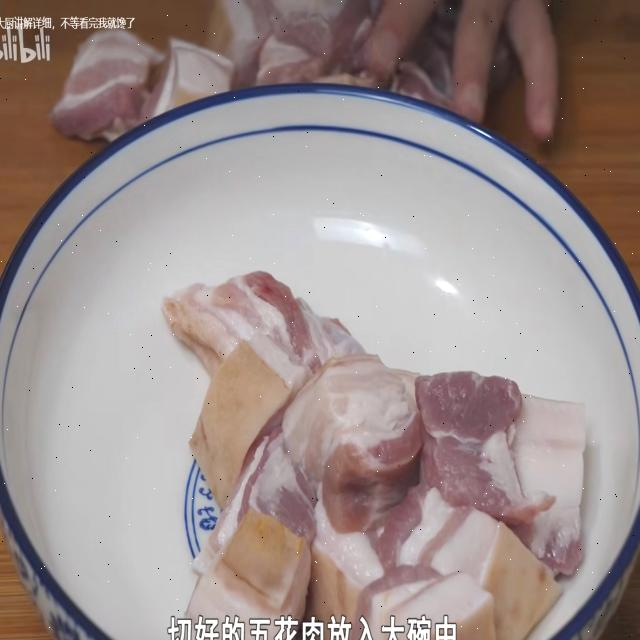meat: (286, 354, 425, 529), (381, 493, 559, 626), (158, 273, 368, 384), (185, 343, 294, 514), (419, 380, 549, 516), (176, 513, 305, 625), (512, 392, 584, 580), (53, 27, 162, 139), (133, 37, 237, 125)
